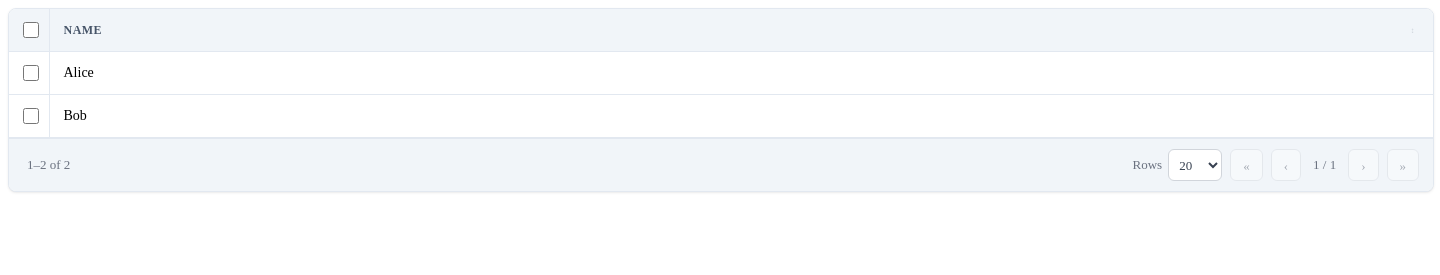
Scenario: DataGrid — toolbar › renders selection count when rows are selected
Click the checkbox named "Select row" next to "Alice" at point(31, 73), box [23,65,39,81]
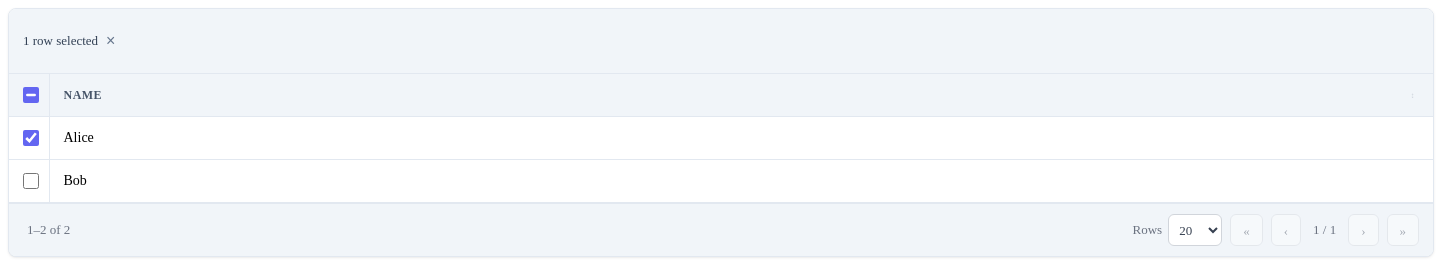
Expected: the text "1 row selected ×" is shown, [23,33,117,49]
